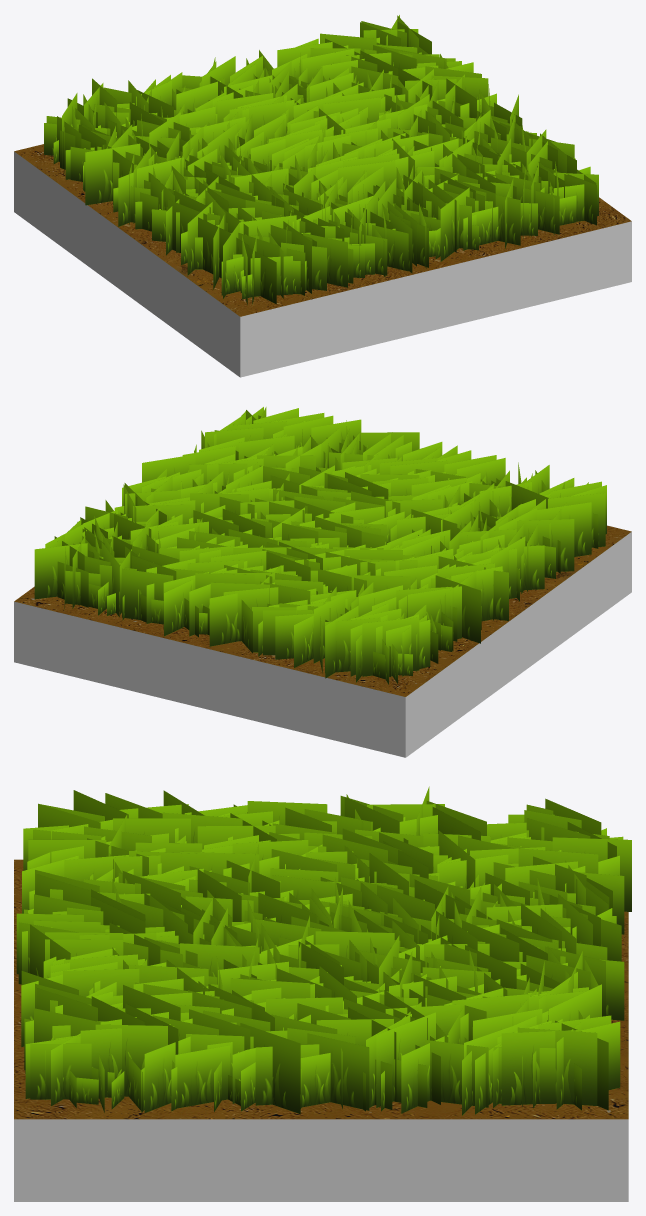
File: cespedtest2.glb
3 renders of one model, top to bottom at view 1: azimuth 30°, elevation 25°; view 2: azimuth 150°, elevation 25°; view 3: azimuth 270°, elevation 25°, orthographic. The views are drawn at different scales.
Visible parts, largest first — view 1: Mesh_Default_0, ebra (×47), Mesh_suelocesped_0; view 2: ebra (×71), Mesh_Default_0, Mesh_suelocesped_0; view 3: ebra (×123), Mesh_Default_0, Mesh_suelocesped_0.
Part boxes in pixels (left/top/right/bottom): Mesh_Default_0: left=14, top=151, right=631, bottom=377; ebra (×47): left=85, top=33, right=596, bottom=304; Mesh_suelocesped_0: left=14, top=144, right=631, bottom=316; ebra (×71): left=34, top=415, right=605, bottom=678; Mesh_Default_0: left=14, top=532, right=631, bottom=757; Mesh_suelocesped_0: left=14, top=525, right=631, bottom=696; ebra (×123): left=16, top=790, right=631, bottom=1114; Mesh_Default_0: left=14, top=1119, right=628, bottom=1201; Mesh_suelocesped_0: left=14, top=859, right=628, bottom=1119.
Size of the model in its own units: 285 by 79.47 by 285.
Materials: 3 (2 with a texture image).
